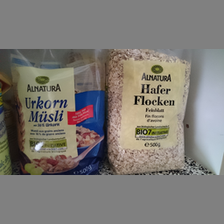cereal: (106, 50, 194, 175), (15, 56, 105, 174)
